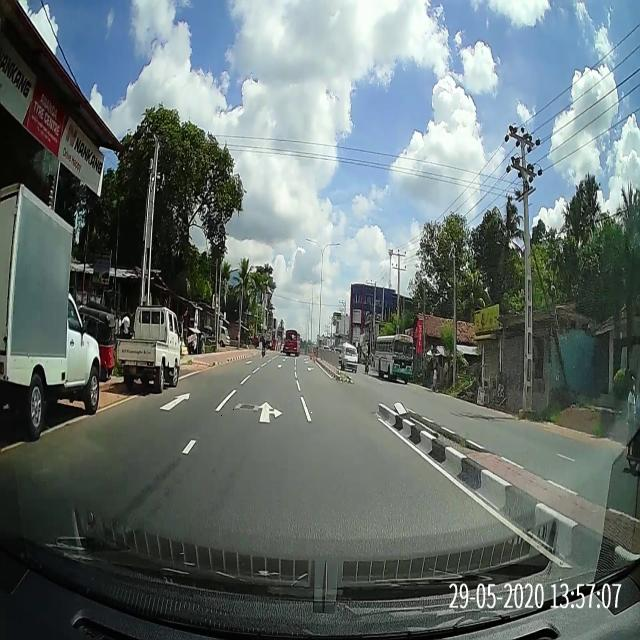forward_right: (201, 393, 316, 434), (203, 394, 311, 422), (209, 396, 308, 415), (208, 405, 309, 416)
